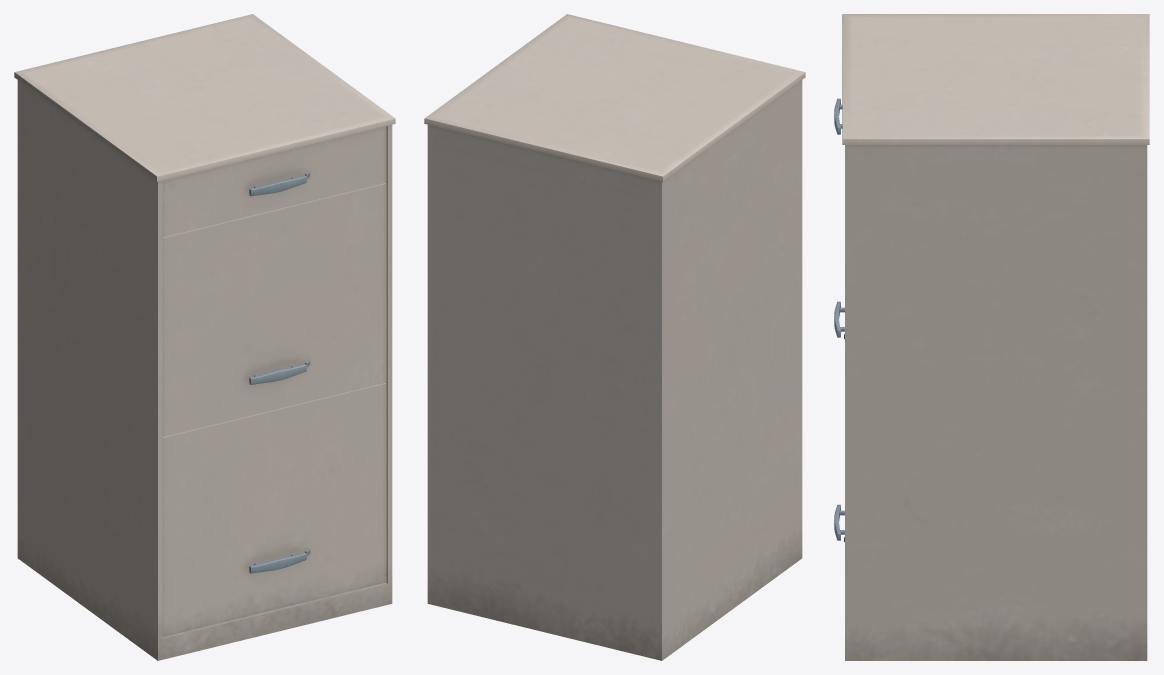
3 views of the same model, side by side, from view 1: azimuth 30°, elevation 25°; view 2: azimuth 150°, elevation 25°; view 3: azimuth 270°, elevation 25° (orthographic). The views are drawn at different scales.
Parts seen in each view (by area): view 1: Cube.000; view 2: Cube.000; view 3: Cube.000.
Part boxes in pixels (x1,y1,x2,y2): Cube.000: (14, 14, 395, 660); Cube.000: (424, 14, 805, 660); Cube.000: (834, 14, 1149, 660).
Size of the model in its own units: 2 by 3.89 by 2.13.
1 material, 1 textured.
